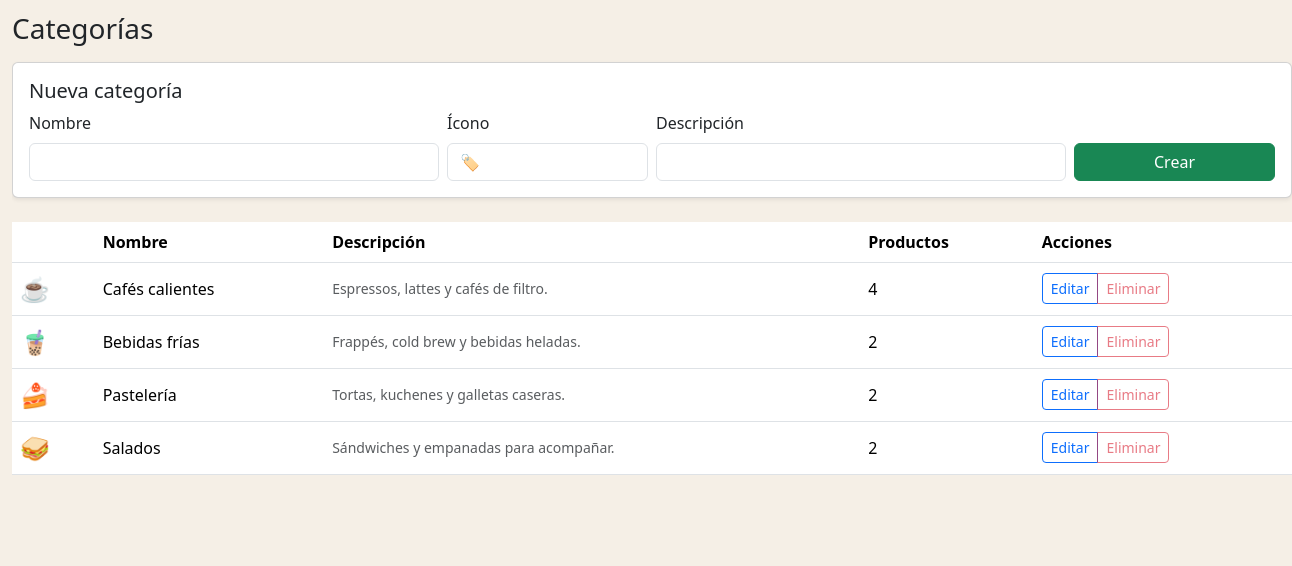
Test: Pruebas del Inspector para AdminCategoriasView › muestra un error si el nombre esta vacio
Click the button "Crear".
click(1174, 162)  # box [1074, 143, 1275, 181]
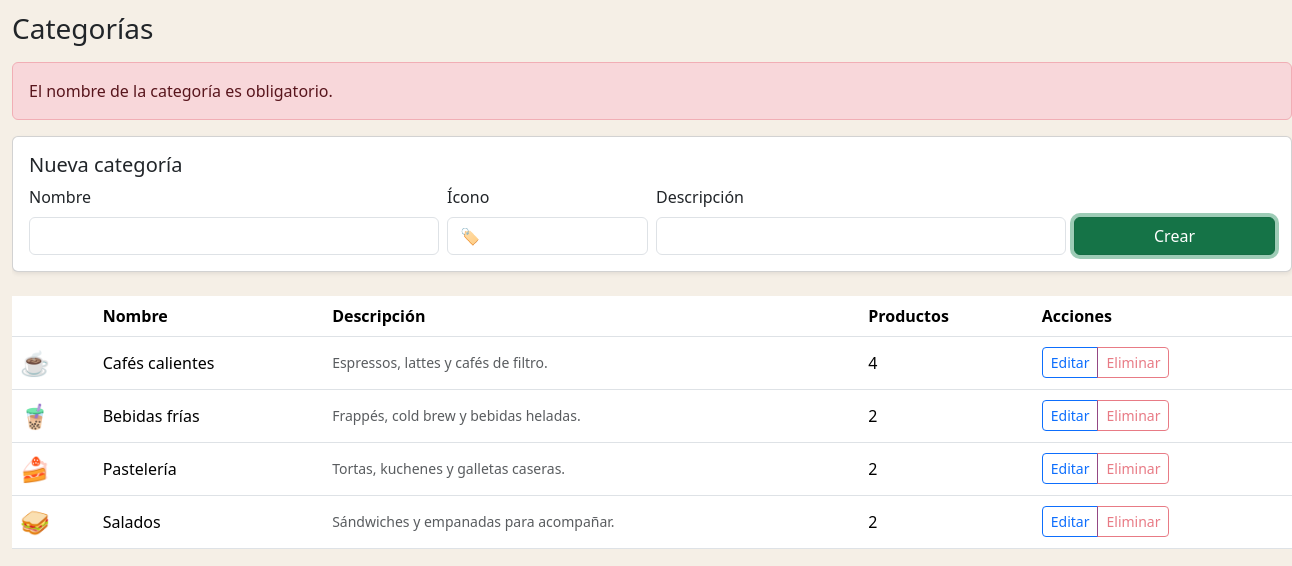
Result: the message reads "El nombre de la categoría es obligatorio." at [29, 80, 333, 102]
